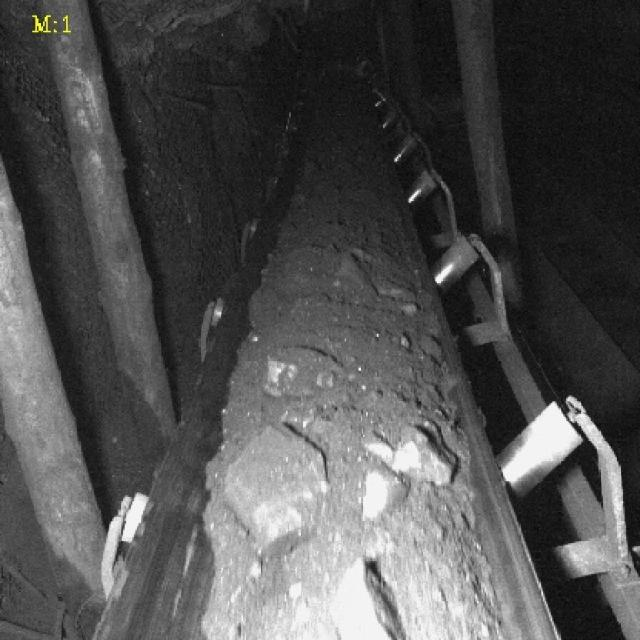bolt: (223, 423, 326, 554)
large_sized_coal: (325, 557, 400, 640), (357, 428, 409, 517), (263, 346, 346, 400), (395, 431, 454, 482)
